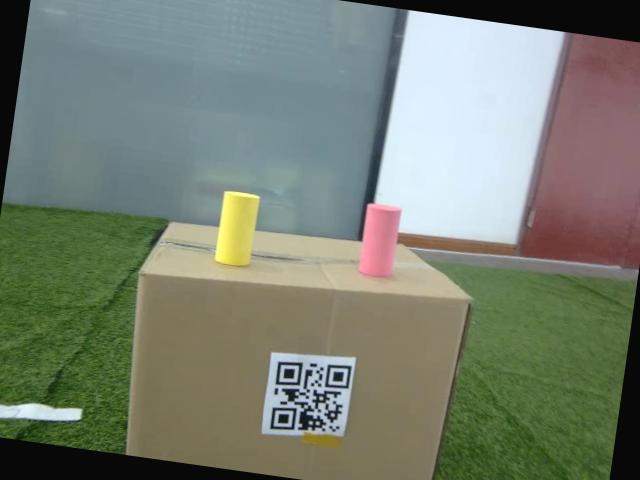red_cylinder: (357, 202, 402, 280)
yellow_cylinder: (213, 191, 260, 269)
